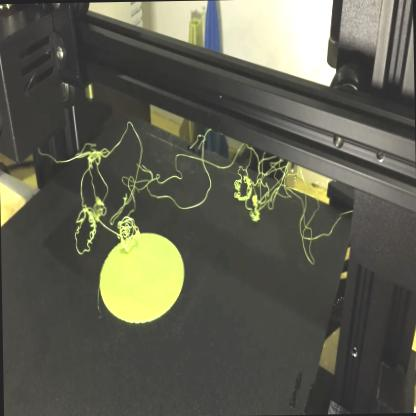fail: (58, 149, 290, 248)
